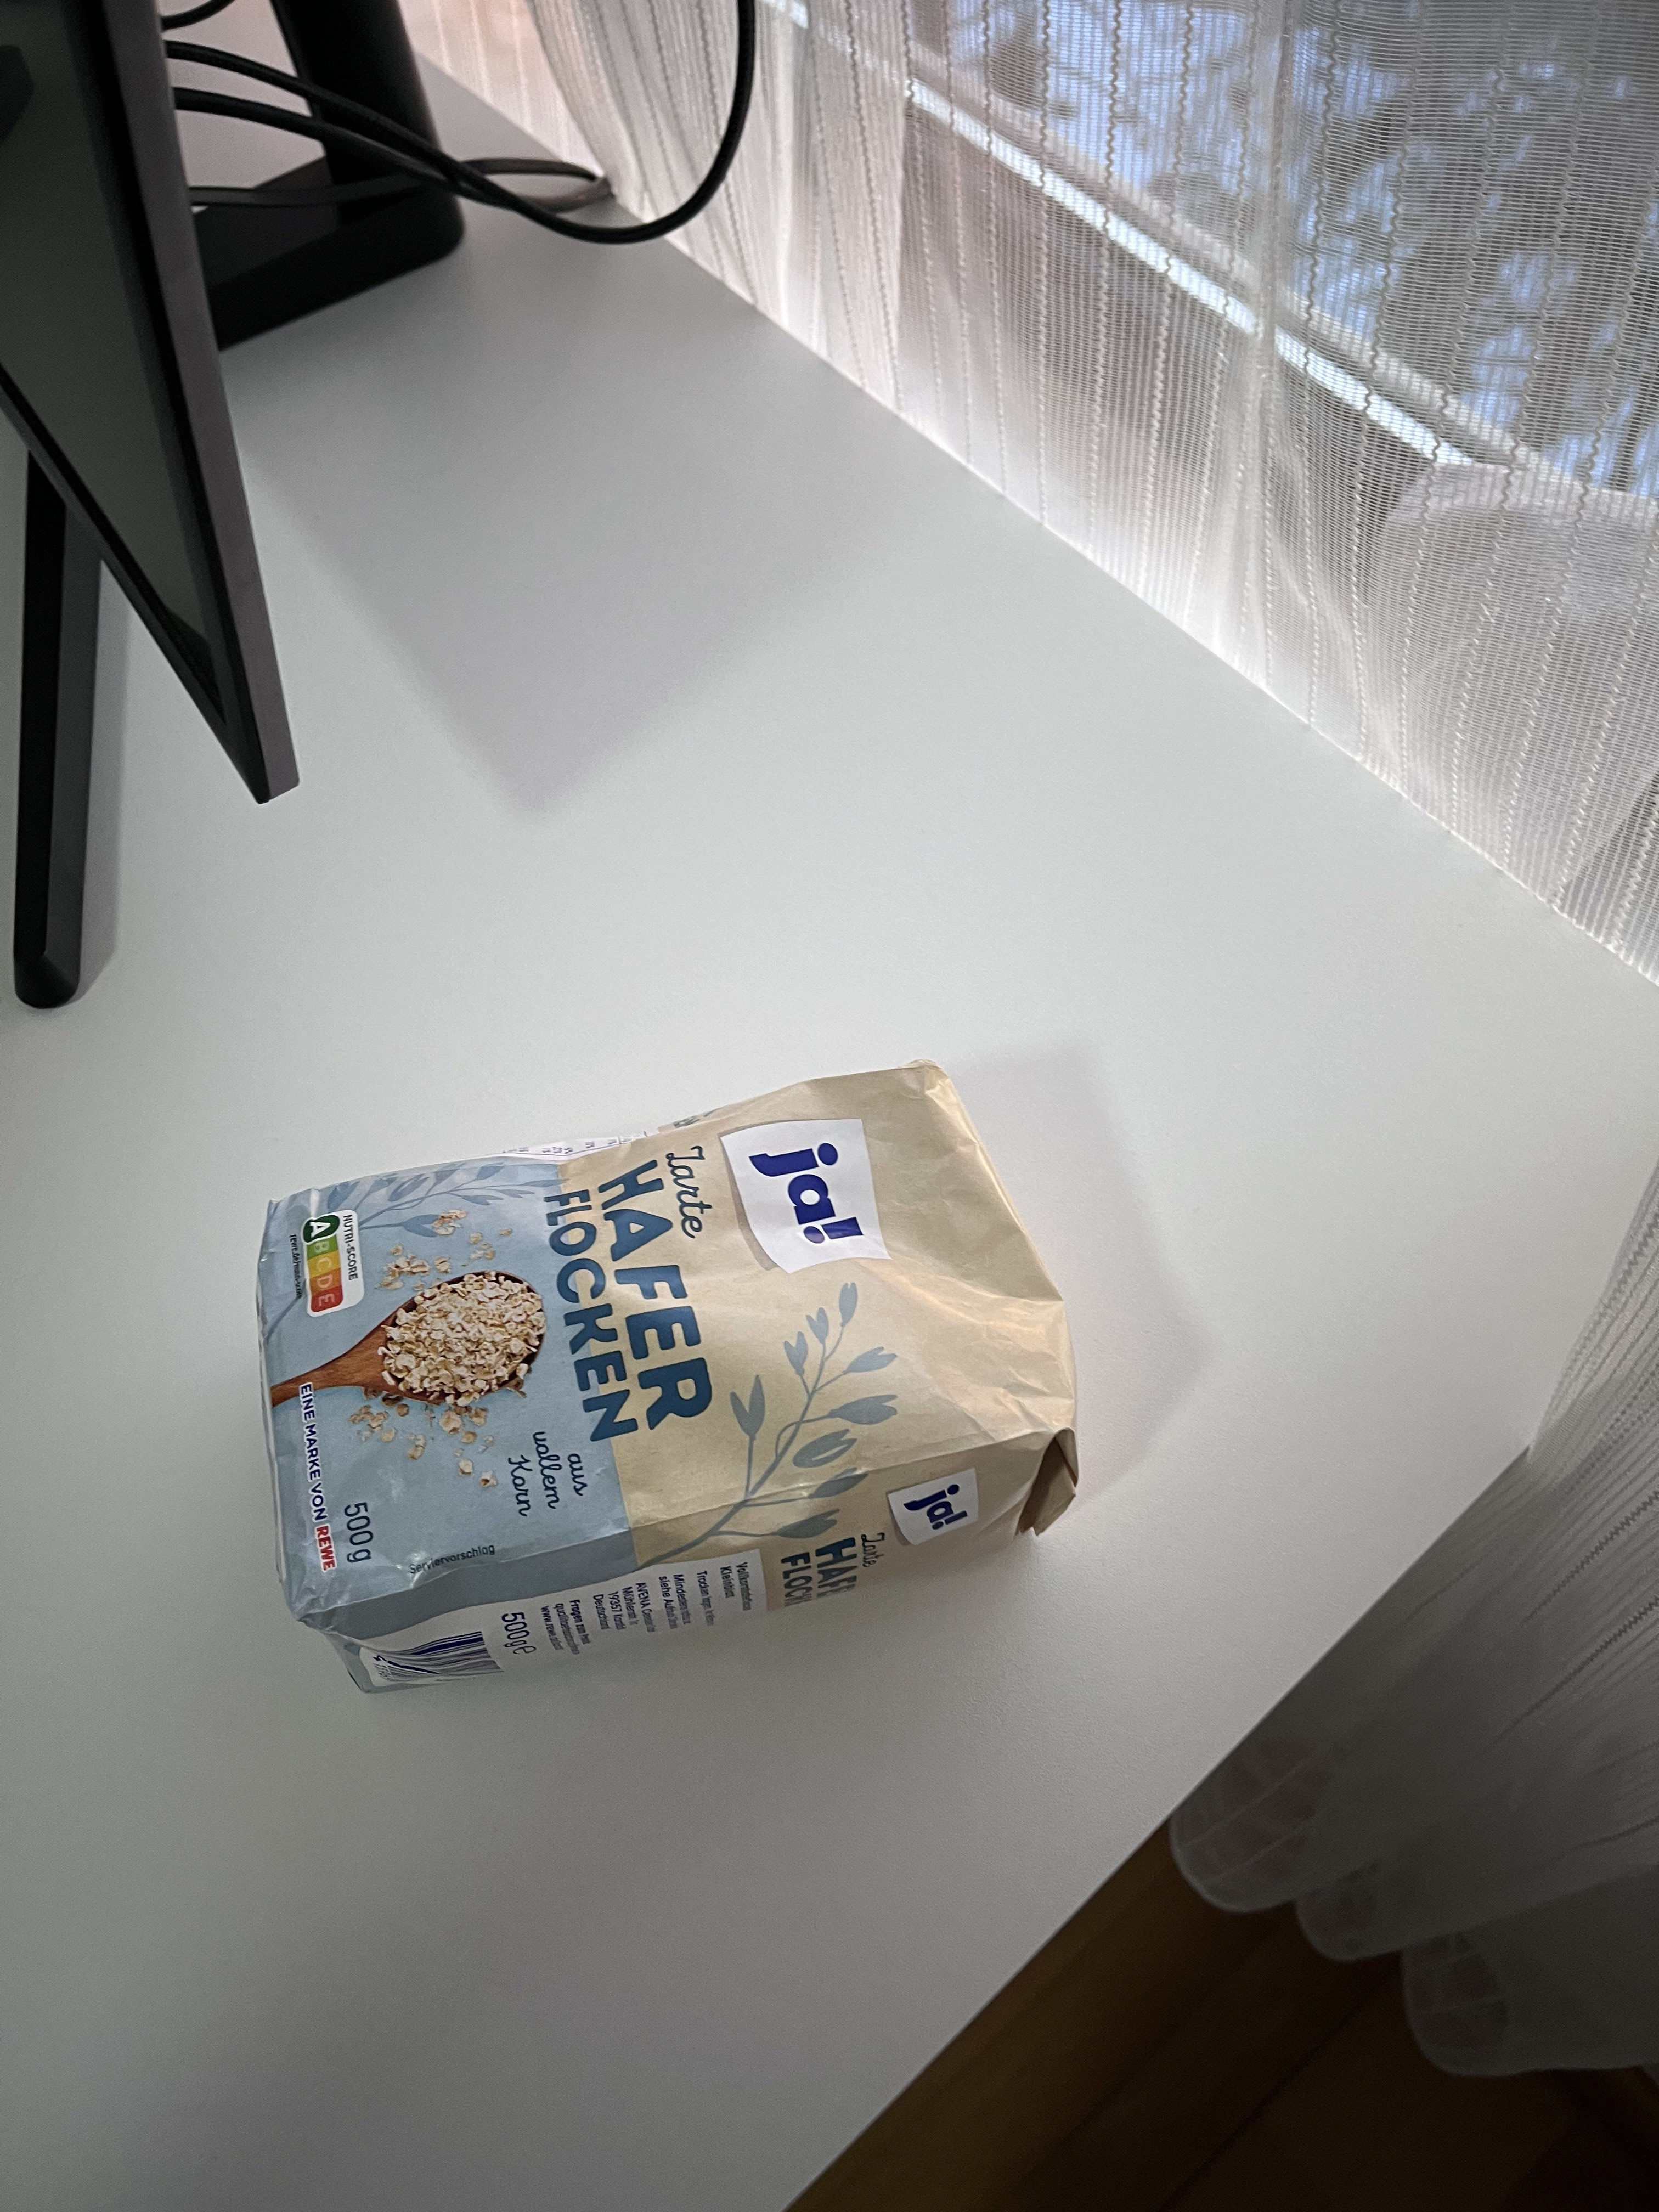haferflocken_ja: (253, 1062, 1080, 1698)
